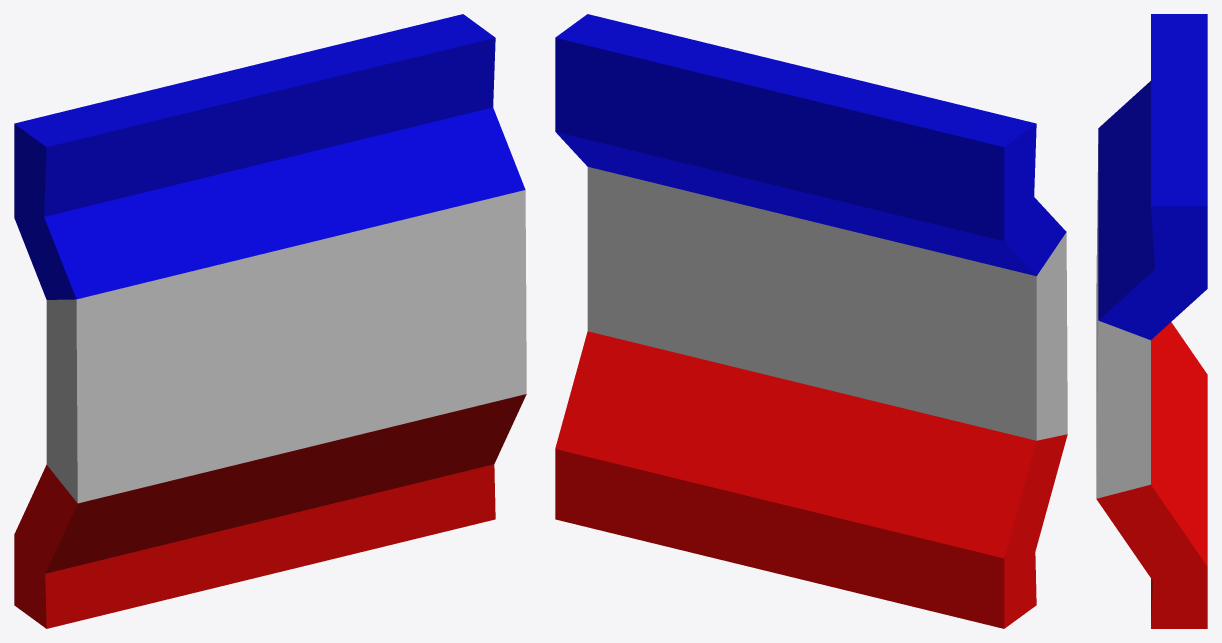
The model's file is Scifi2_WallA.fbx.
3 renders of one model, left to right at view 1: azimuth 30°, elevation 25°; view 2: azimuth 150°, elevation 25°; view 3: azimuth 270°, elevation 25°, orthographic. The views are drawn at different scales.
Parts seen in each view (by area): view 1: WallA; view 2: WallA; view 3: WallA.
Boxes of the visible parts, box(x1,y1,x2,y2) form: WallA: box(14, 14, 526, 628); WallA: box(555, 14, 1067, 628); WallA: box(1096, 14, 1207, 628).
Bounding box in the file's own units: 400 × 410 × 98.06.
